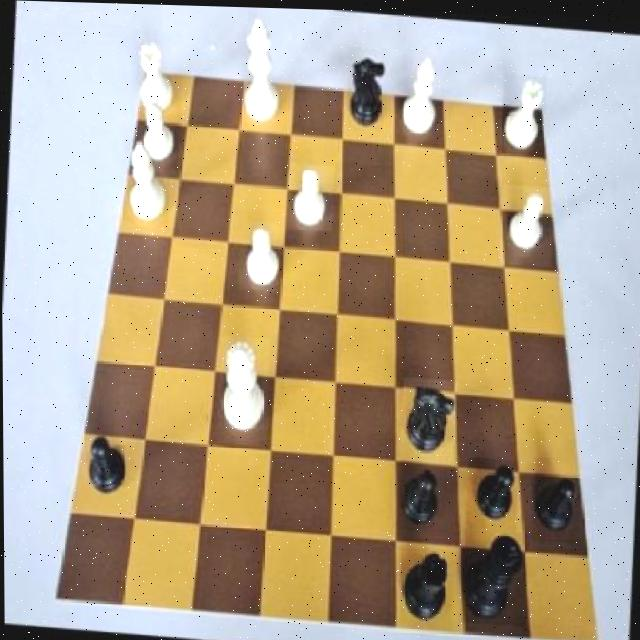black-bishop: (456, 524, 528, 623)
black-king: (399, 376, 457, 466), (346, 45, 388, 130)
black-knight: (84, 422, 134, 508), (466, 454, 519, 531), (532, 468, 582, 542), (395, 462, 448, 530)
black-queen: (397, 544, 455, 630)
black-rook: (397, 45, 445, 142), (121, 137, 172, 224)
white-bishop: (239, 10, 286, 130)
white-knight: (499, 181, 555, 265), (136, 95, 182, 170), (287, 162, 335, 230), (238, 219, 282, 291)
white-pawn: (216, 334, 271, 446)
white-queen: (129, 29, 182, 116), (500, 72, 547, 159)
